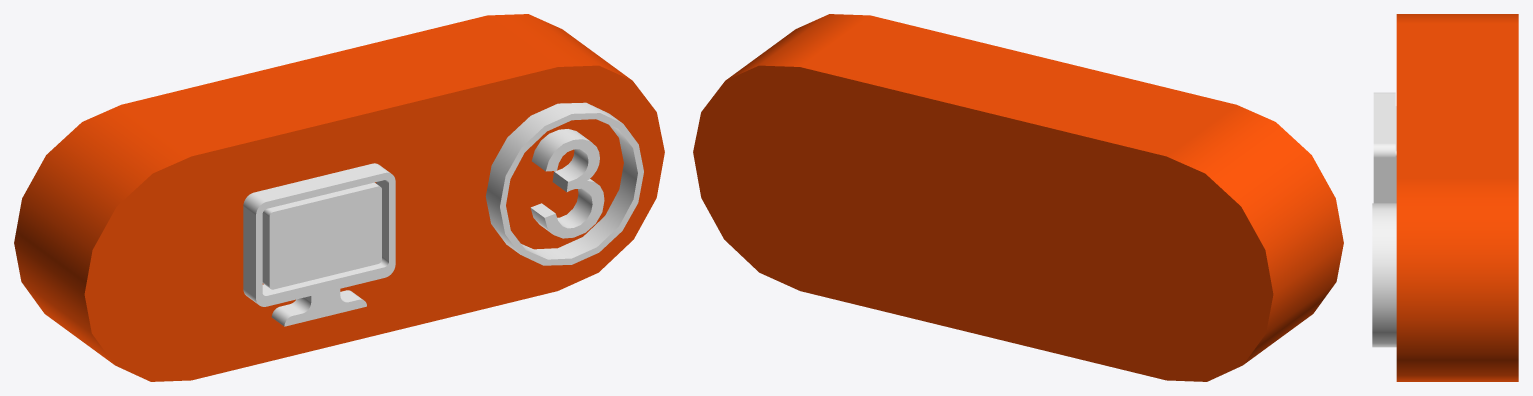
Rendered from Screen_3.fbx.
3 renders of one model, left to right at view 1: azimuth 30°, elevation 25°; view 2: azimuth 150°, elevation 25°; view 3: azimuth 270°, elevation 25°, orthographic. The views are drawn at different scales.
Visible parts, largest first — view 1: Orange, Object_5, Object_6, Object_1, Object_4; view 2: Orange; view 3: Orange, Object_1, Object_5, Object_6.
Part boxes in pixels (x1,y1,x2,y2): Orange: (14,14,664,381); Object_5: (243,163,395,326); Object_6: (262,182,381,289); Object_1: (485,102,643,265); Object_4: (530,129,604,238); Orange: (693,14,1343,381); Orange: (1396,14,1518,381); Object_1: (1372,203,1396,347); Object_5: (1373,92,1395,203); Object_6: (1395,106,1396,203).
Bounding box in the file's own units: 4.75 × 1.2 × 1.75.
